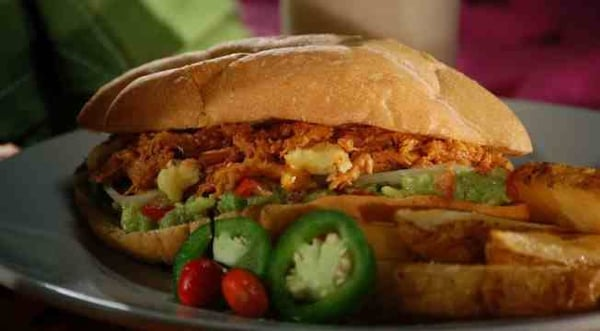soup: (66, 33, 549, 270)
